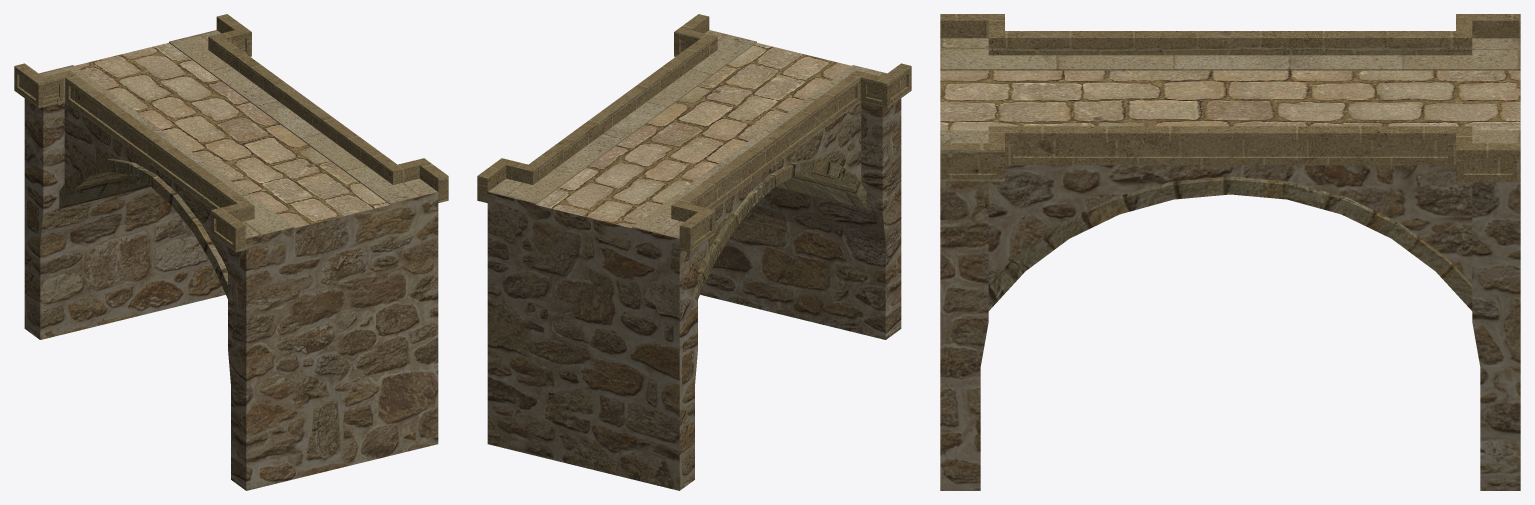
The model's file is bridge middlepiece.obj.
The picture shows the model from 3 angles, left to right: view 1: azimuth 30°, elevation 25°; view 2: azimuth 150°, elevation 25°; view 3: azimuth 270°, elevation 25°; orthographic projection. The views are drawn at different scales.
Visible parts, largest first — view 1: Default; view 2: Default; view 3: Default.
Part boxes in pixels (x1,y1,x2,y2): Default: (14,14,448,490); Default: (477,14,911,490); Default: (940,14,1520,490).
Size of the model in its own units: 20 by 23.8 by 36.
Materials: 5 (5 with a texture image).
